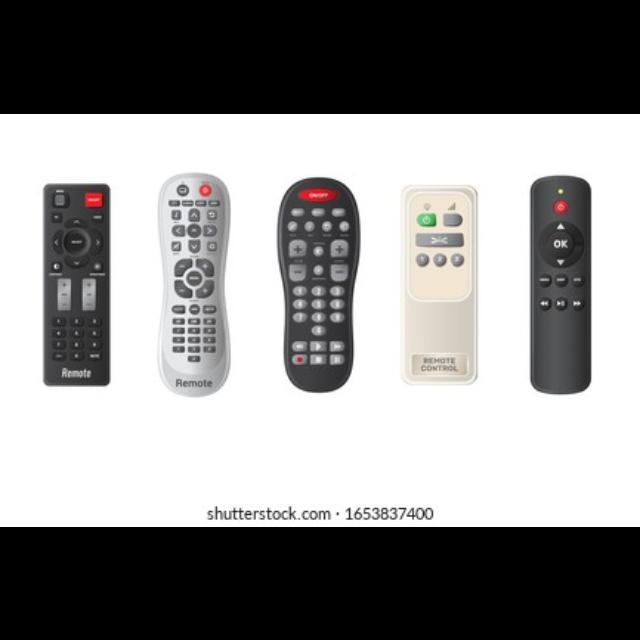TV-Remote-Control: (273, 175, 362, 395), (41, 181, 112, 388), (528, 174, 593, 397)
